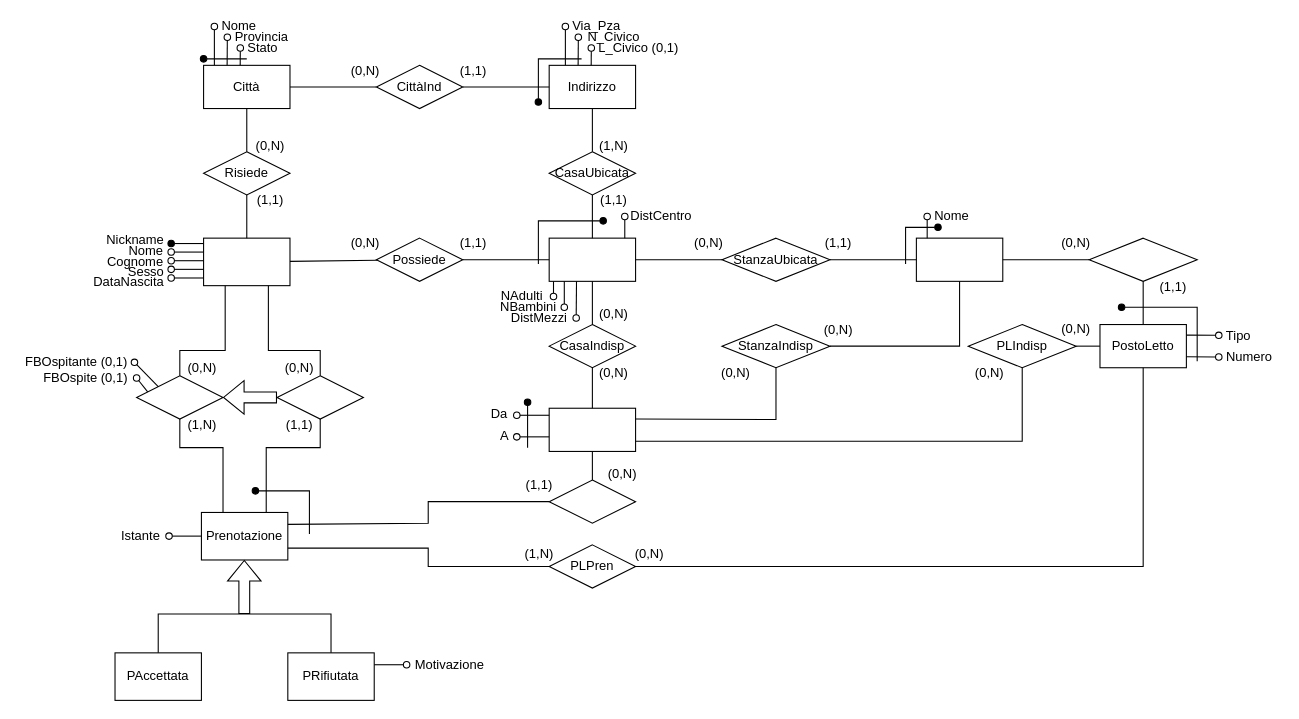
The diagram is 1299 pixels wide and 719 high, and some of its shapes have lost their labels. The centre of each missing label's shape, as x and y in pixels:
"Casa" belongs at pixel 592 259.
"Effettua" belongs at pixel 319 397.
"Ospite" belongs at pixel 179 397.
"Periodo" belongs at pixel 592 429.
"PeriodoPren" belongs at pixel 592 501.
"PLUbicato" belongs at pixel 1142 259.
"Stanza" belongs at pixel 959 259.
"Utente" belongs at pixel 246 261.
